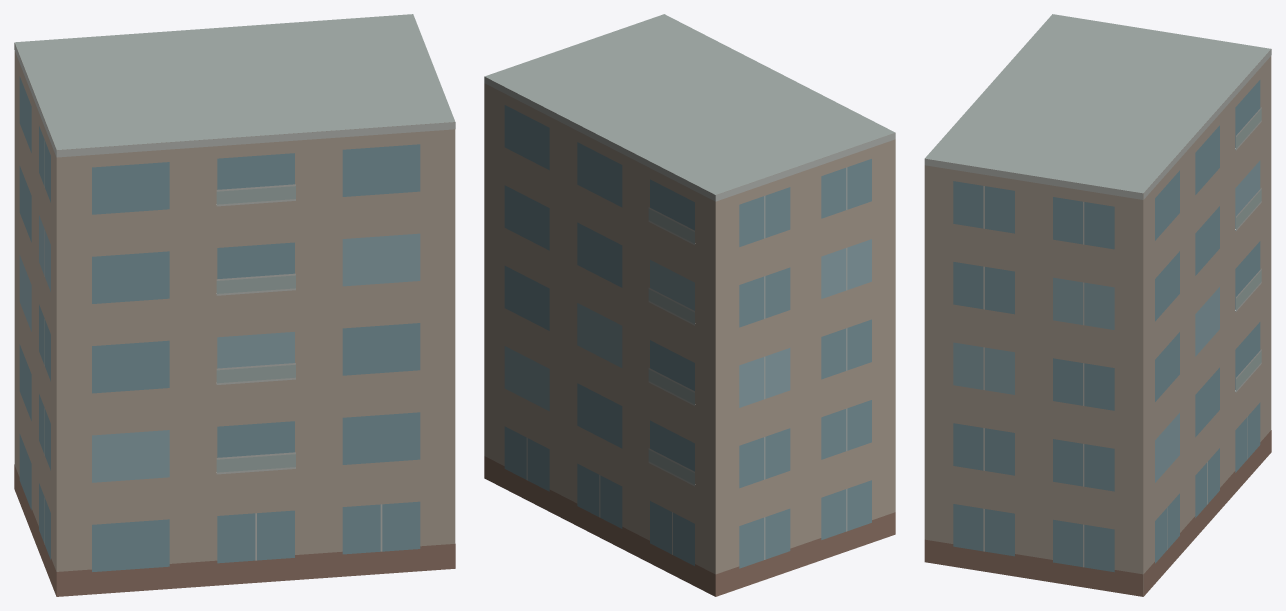
Rendered from survey-upis-32552133.glb.
3 views of the same model, side by side, from view 1: azimuth 30°, elevation 25°; view 2: azimuth 150°, elevation 25°; view 3: azimuth 270°, elevation 25° (orthographic). The views are drawn at different scales.
Parts seen in each view (by area): view 1: survey-upis-32552133.tmp; view 2: survey-upis-32552133.tmp; view 3: survey-upis-32552133.tmp.
Boxes of the visible parts, <box> form: survey-upis-32552133.tmp: <box>14,14,455,596</box>; survey-upis-32552133.tmp: <box>484,14,895,596</box>; survey-upis-32552133.tmp: <box>924,14,1271,596</box>.
Size of the model in its own units: 14.12 by 14.8 by 11.54.
